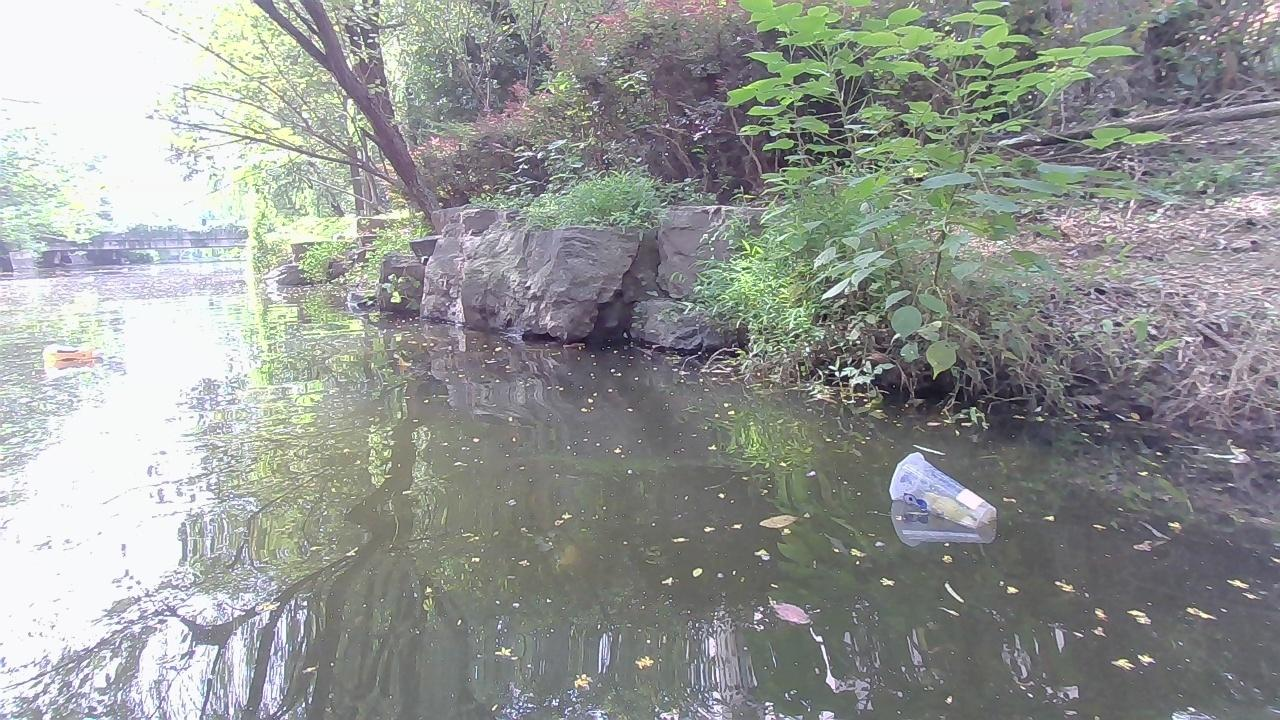bottle: (887, 452, 998, 531), (40, 343, 110, 368)
